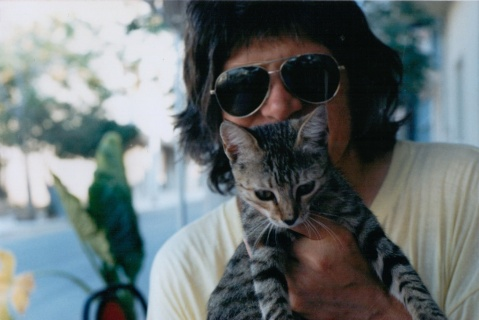Cat: (203, 102, 447, 319)
